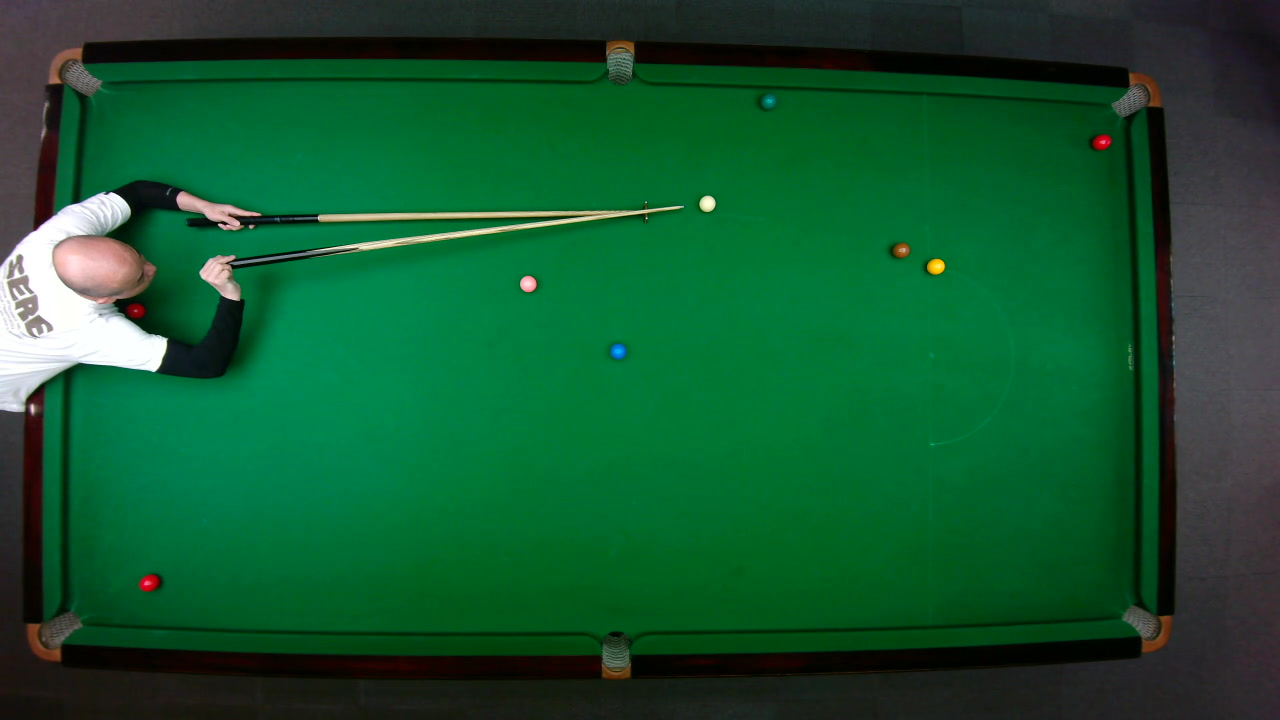bag: (25, 609, 83, 662), (46, 47, 102, 96), (1119, 603, 1171, 652), (1108, 71, 1162, 118), (600, 629, 630, 680), (605, 38, 633, 85)
blue: (608, 342, 627, 359)
brown: (890, 241, 910, 258)
cue: (225, 202, 691, 269)
green: (759, 93, 776, 109)
pink: (518, 274, 537, 292)
red: (121, 300, 147, 320), (137, 572, 161, 592), (1090, 132, 1112, 150)
white: (697, 193, 716, 212)
yellow: (925, 257, 946, 275)
zone: (927, 267, 1013, 445)
